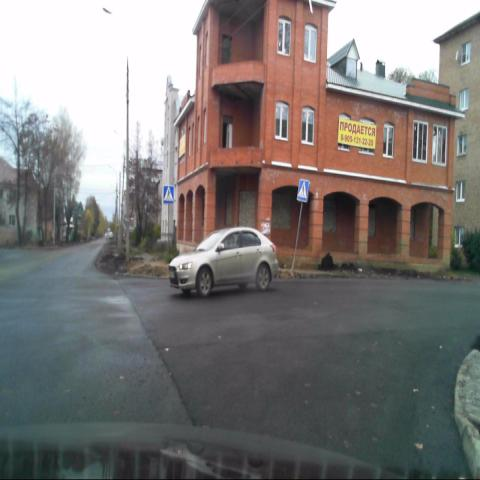5_19_1: (297, 179, 307, 202)
